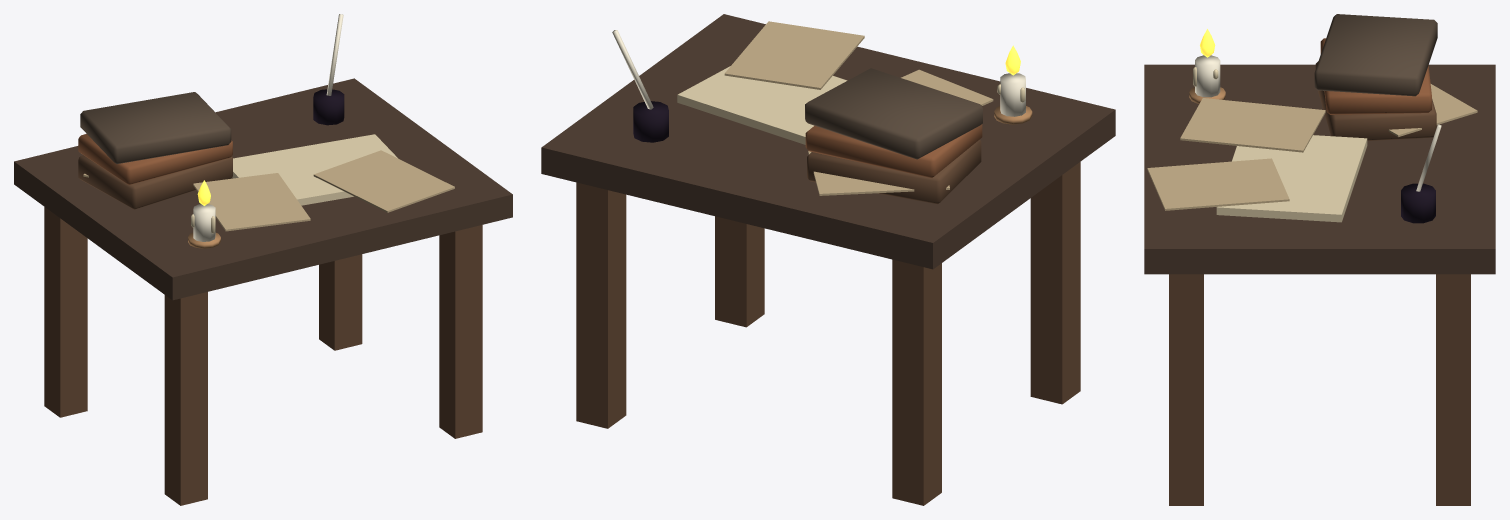
Rendered from table_books.glb.
3 renders of one model, left to right at view 1: azimuth 30°, elevation 25°; view 2: azimuth 150°, elevation 25°; view 3: azimuth 270°, elevation 25°, orthographic. The views are drawn at different scales.
Visible parts, largest first — view 1: table_books; view 2: table_books; view 3: table_books.
Part boxes in pixels (bbox=[...]): table_books: bbox=[14, 14, 512, 505]; table_books: bbox=[541, 14, 1115, 505]; table_books: bbox=[1144, 14, 1495, 505].
Bounding box in the file's own units: 0.62 × 0.5815 × 0.5.
